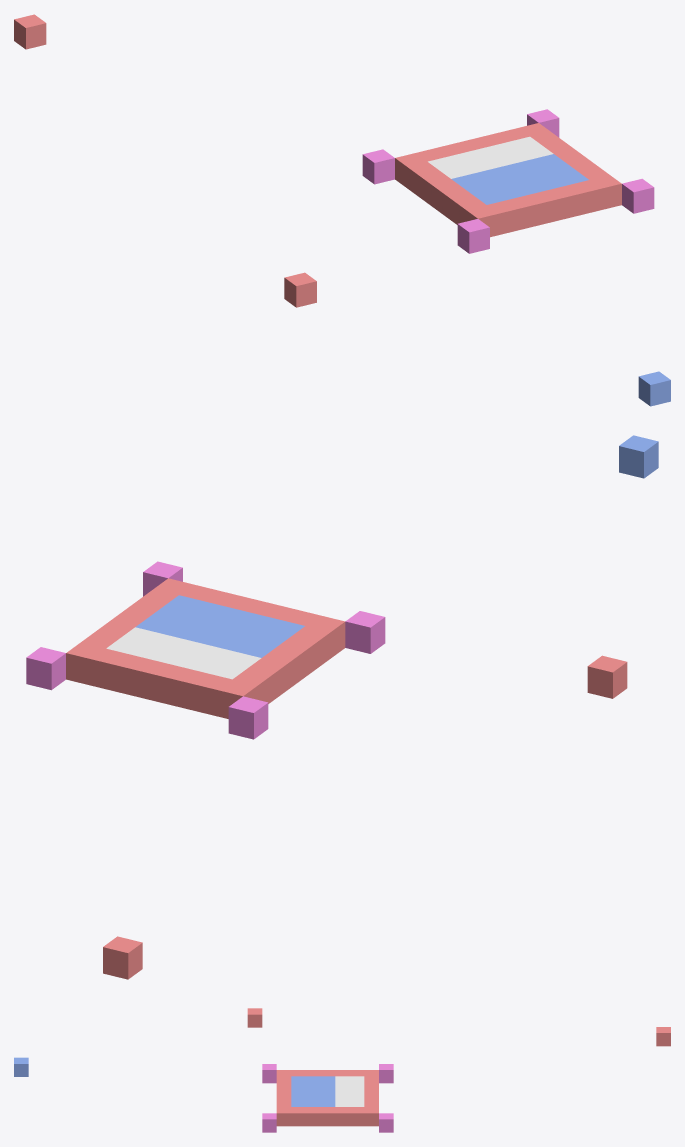
File: map.glb
3 views of the same model, one above another, from view 1: azimuth 30°, elevation 25°; view 2: azimuth 150°, elevation 25°; view 3: azimuth 270°, elevation 25° (orthographic). The views are drawn at different scales.
Size of the model in its own units: 18 by 1 by 45.
